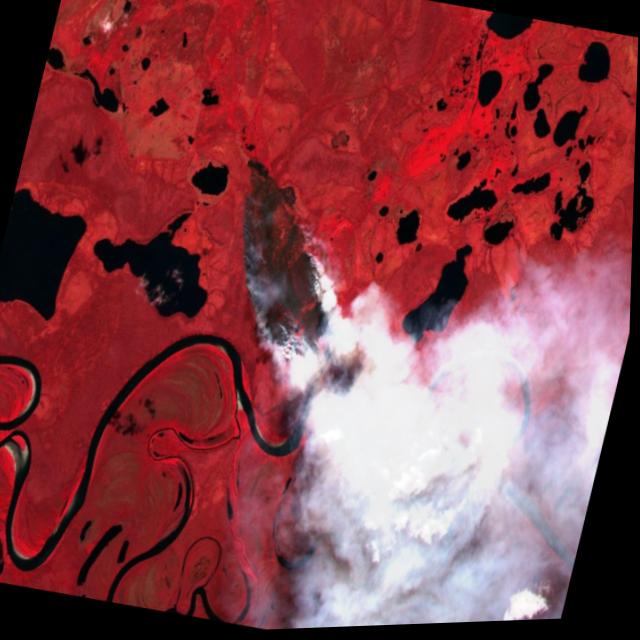fire: (201, 155, 383, 397)
